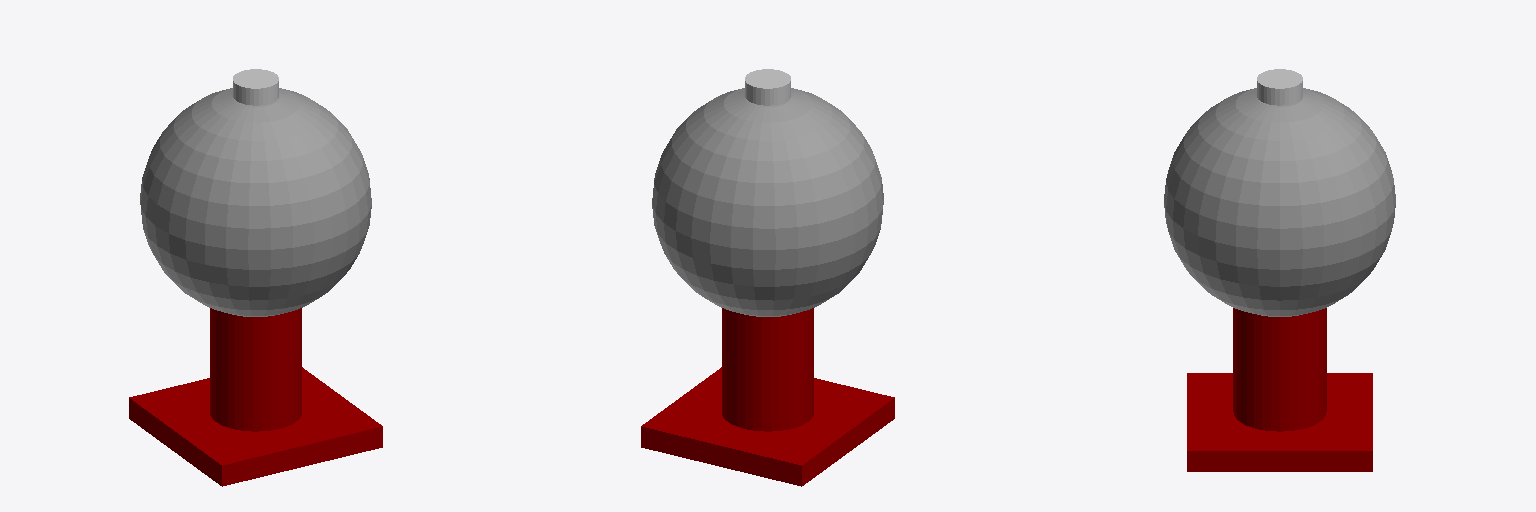
File: GumballMachine.obj
The picture shows the model from 3 angles: view 1: azimuth 30°, elevation 25°; view 2: azimuth 150°, elevation 25°; view 3: azimuth 270°, elevation 25°; orthographic projection.
Parts seen in each view (by area): view 1: Sphere, Cube, Cylinder, Cylinder.001; view 2: Sphere, Cube, Cylinder, Cylinder.001; view 3: Sphere, Cube, Cylinder, Cylinder.001.
Part boxes in pixels (bbox=[...]): Sphere: bbox=[140, 88, 371, 316]; Cube: bbox=[129, 367, 382, 486]; Cylinder: bbox=[210, 308, 301, 431]; Cylinder.001: bbox=[233, 69, 278, 105]; Sphere: bbox=[652, 88, 883, 316]; Cube: bbox=[641, 367, 894, 486]; Cylinder: bbox=[722, 308, 813, 431]; Cylinder.001: bbox=[745, 69, 790, 105]; Sphere: bbox=[1164, 88, 1395, 316]; Cube: bbox=[1187, 373, 1372, 471]; Cylinder: bbox=[1233, 308, 1326, 431]; Cylinder.001: bbox=[1257, 69, 1302, 105].
Bounding box in the file's own units: 5 × 8.4 × 5.